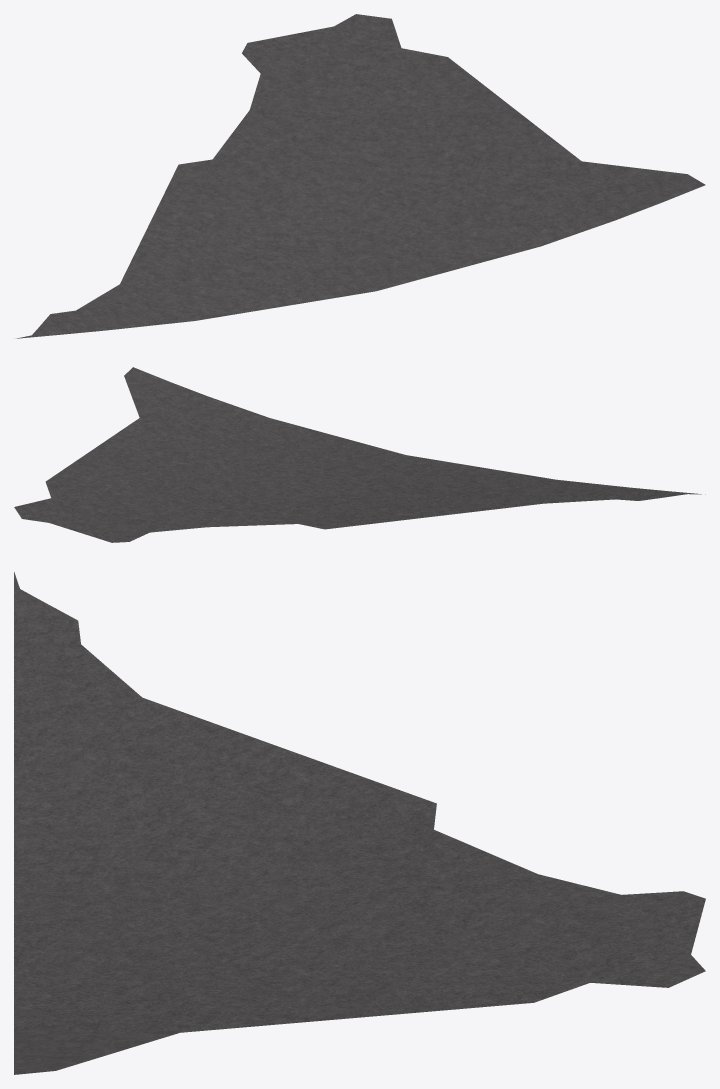
The model's file is road_05.glb.
The picture shows the model from 3 angles, top to bottom: view 1: azimuth 30°, elevation 25°; view 2: azimuth 150°, elevation 25°; view 3: azimuth 270°, elevation 25°; orthographic projection. The views are drawn at different scales.
Parts seen in each view (by area): view 1: road_05.surface; view 2: road_05.surface; view 3: road_05.surface.
Part boxes in pixels (x1,y1,x2,y2): road_05.surface: [16, 14, 705, 338]; road_05.surface: [14, 367, 705, 542]; road_05.surface: [14, 572, 705, 1074].
Size of the model in its own units: 7.64 by 0.4841 by 4.63.
Materials: 1 (1 with a texture image).
